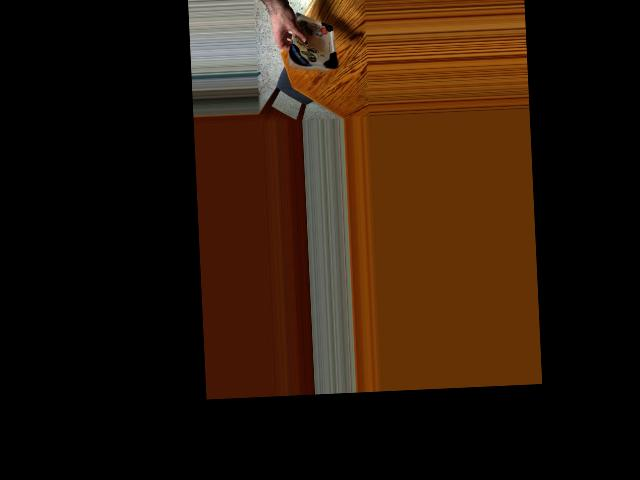cheese: (285, 22, 335, 76)
